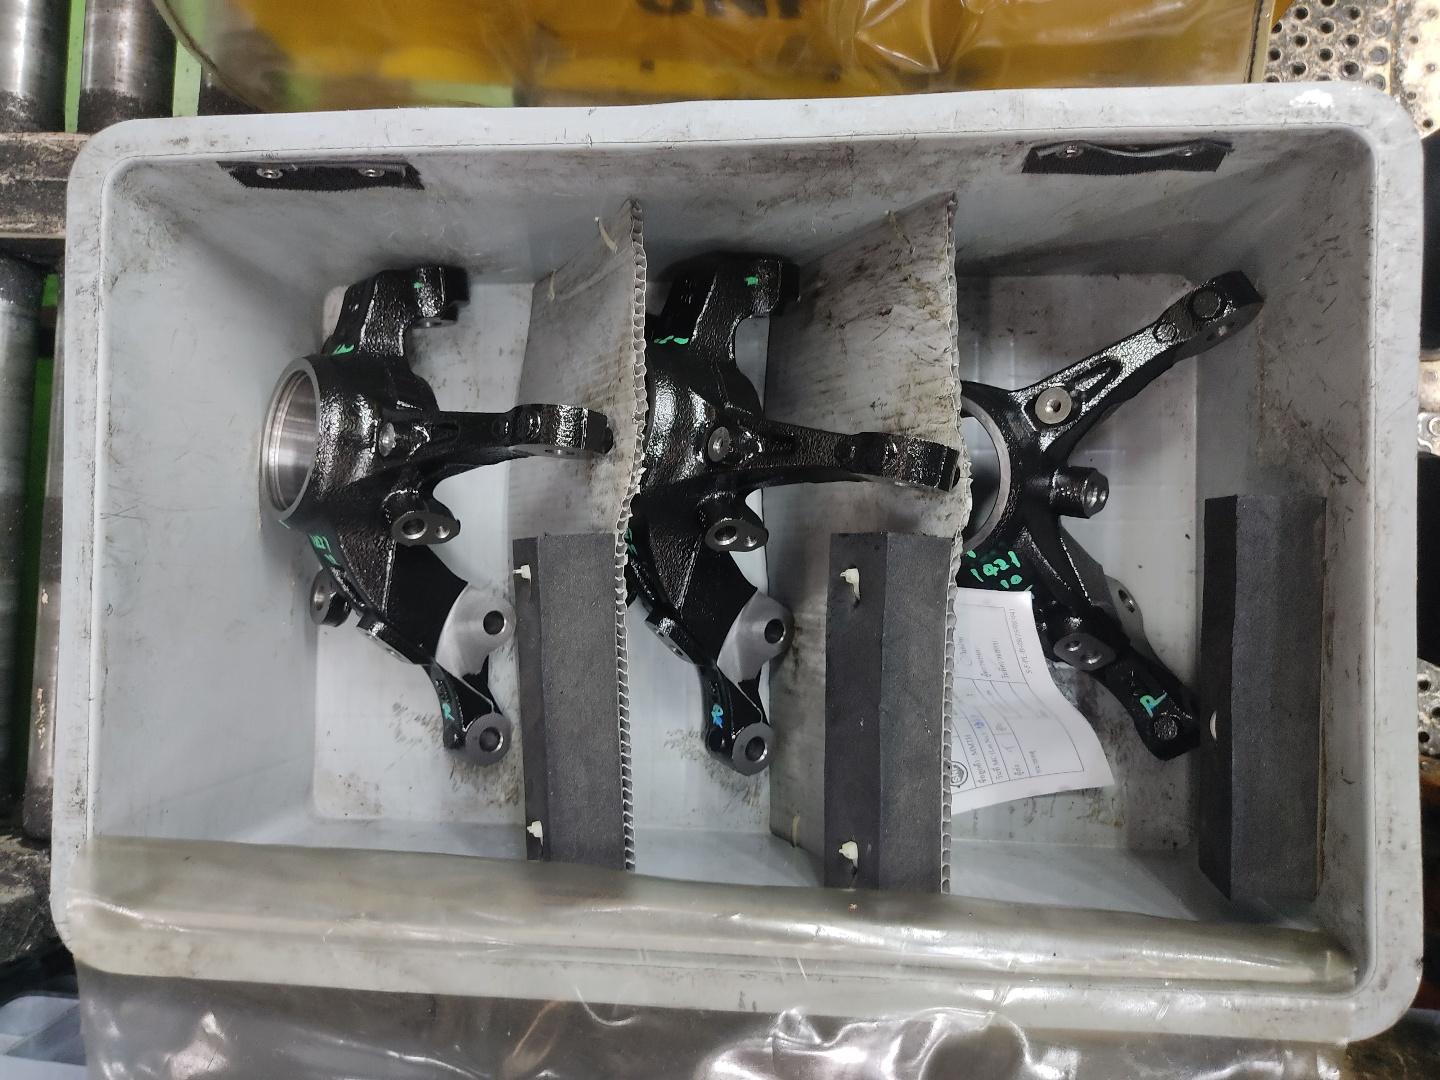abs-rh: (247, 248, 617, 774), (626, 248, 962, 784), (960, 253, 1271, 773)
